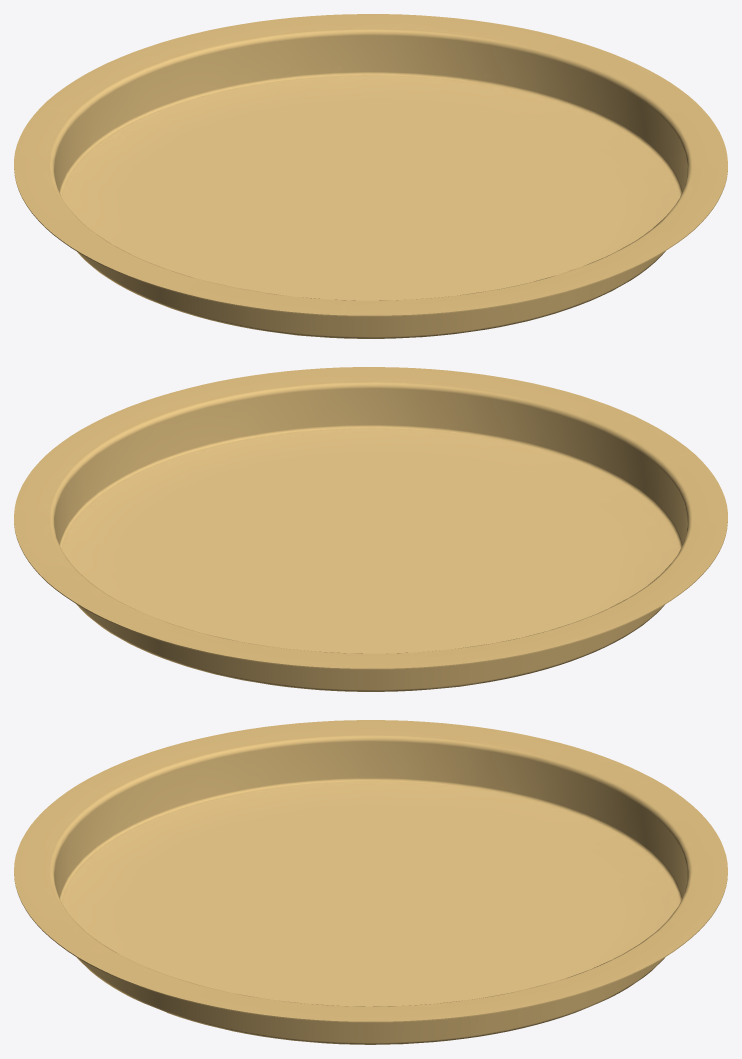
The model's file is LB-TRAY-02.glb.
The picture shows the model from 3 angles, top to bottom: view 1: azimuth 30°, elevation 25°; view 2: azimuth 150°, elevation 25°; view 3: azimuth 270°, elevation 25°; orthographic projection.
Visible parts, largest first — view 1: model; view 2: model; view 3: model.
Boxes of the visible parts, bbox=[...] form: model: bbox=[14, 14, 727, 338]; model: bbox=[14, 367, 727, 691]; model: bbox=[14, 720, 727, 1044].
Size of the model in its own units: 0.378 by 0.0249 by 0.378.
1 material, 1 textured.
